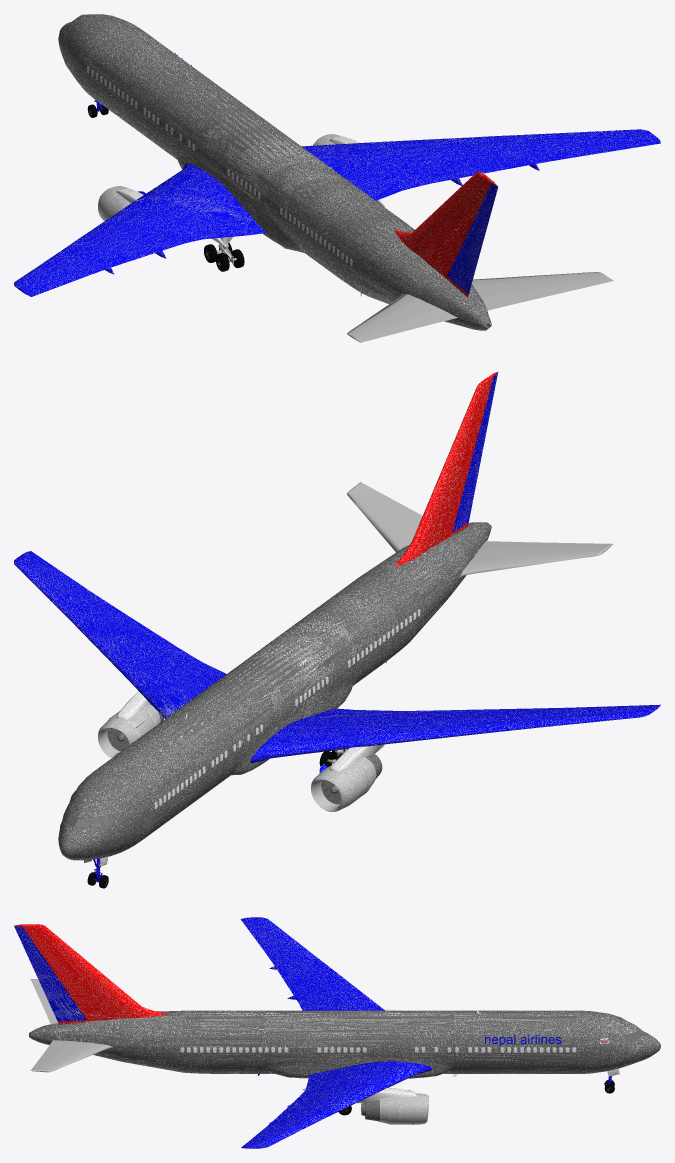
3 renders of one model, top to bottom at view 1: azimuth 30°, elevation 25°; view 2: azimuth 150°, elevation 25°; view 3: azimuth 270°, elevation 25°, orthographic. The views are drawn at different scales.
Parts seen in each view (by area): view 1: mesh55_mesh55-geometry, mesh122_mesh122-geometry, mesh87_mesh87-geometry, mesh39_mesh39-geometry, mesh138_mesh138-geometry, mesh137_mesh137-geometry, mesh41_mesh41-geometry, mesh85_mesh85-geometry, mesh71_mesh71-geometry, mesh120_mesh120-geometry; view 2: mesh55_mesh55-geometry, mesh122_mesh122-geometry, mesh87_mesh87-geometry, mesh39_mesh39-geometry, mesh137_mesh137-geometry, mesh138_mesh138-geometry, mesh85_mesh85-geometry, mesh71_mesh71-geometry, mesh120_mesh120-geometry, mesh41_mesh41-geometry, mesh106_mesh106-geometry, mesh86_mesh86-geometry; view 3: mesh55_mesh55-geometry, mesh39_mesh39-geometry, mesh87_mesh87-geometry, mesh122_mesh122-geometry, mesh41_mesh41-geometry, mesh138_mesh138-geometry, mesh106_mesh106-geometry, mesh120_mesh120-geometry, mesh85_mesh85-geometry, mesh115_mesh115-geometry, mesh137_mesh137-geometry.
Boxes of the visible parts, left/top/right/bottom form: mesh55_mesh55-geometry: left=58, top=14, right=491, bottom=330; mesh122_mesh122-geometry: left=303, top=129, right=660, bottom=200; mesh87_mesh87-geometry: left=14, top=163, right=266, bottom=296; mesh39_mesh39-geometry: left=394, top=171, right=498, bottom=297; mesh138_mesh138-geometry: left=471, top=272, right=613, bottom=310; mesh137_mesh137-geometry: left=347, top=293, right=457, bottom=342; mesh41_mesh41-geometry: left=446, top=183, right=497, bottom=293; mesh85_mesh85-geometry: left=15, top=197, right=147, bottom=282; mesh71_mesh71-geometry: left=98, top=186, right=130, bottom=221; mesh120_mesh120-geometry: left=365, top=129, right=639, bottom=143; mesh55_mesh55-geometry: left=58, top=522, right=491, bottom=860; mesh122_mesh122-geometry: left=14, top=551, right=226, bottom=711; mesh87_mesh87-geometry: left=250, top=704, right=660, bottom=763; mesh39_mesh39-geometry: left=394, top=371, right=498, bottom=566; mesh137_mesh137-geometry: left=460, top=541, right=613, bottom=576; mesh138_mesh138-geometry: left=347, top=482, right=422, bottom=552; mesh85_mesh85-geometry: left=365, top=712, right=639, bottom=746; mesh71_mesh71-geometry: left=311, top=757, right=376, bottom=811; mesh120_mesh120-geometry: left=14, top=561, right=148, bottom=689; mesh41_mesh41-geometry: left=452, top=373, right=497, bottom=533; mesh106_mesh106-geometry: left=98, top=704, right=160, bottom=757; mesh86_mesh86-geometry: left=267, top=739, right=349, bottom=758; mesh55_mesh55-geometry: left=29, top=1010, right=660, bottom=1078; mesh39_mesh39-geometry: left=14, top=924, right=168, bottom=1024; mesh87_mesh87-geometry: left=240, top=917, right=384, bottom=1010; mesh122_mesh122-geometry: left=241, top=1061, right=432, bottom=1148; mesh41_mesh41-geometry: left=14, top=926, right=86, bottom=1021; mesh138_mesh138-geometry: left=30, top=1040, right=113, bottom=1072; mesh106_mesh106-geometry: left=379, top=1093, right=429, bottom=1124; mesh120_mesh120-geometry: left=263, top=1084, right=380, bottom=1146; mesh85_mesh85-geometry: left=264, top=919, right=379, bottom=1006; mesh115_mesh115-geometry: left=356, top=1087, right=416, bottom=1103; mesh137_mesh137-geometry: left=30, top=979, right=57, bottom=1024.
Size of the model in its own units: 0.6298 by 0.2124 by 0.7471.
18 materials, 1 textured.
